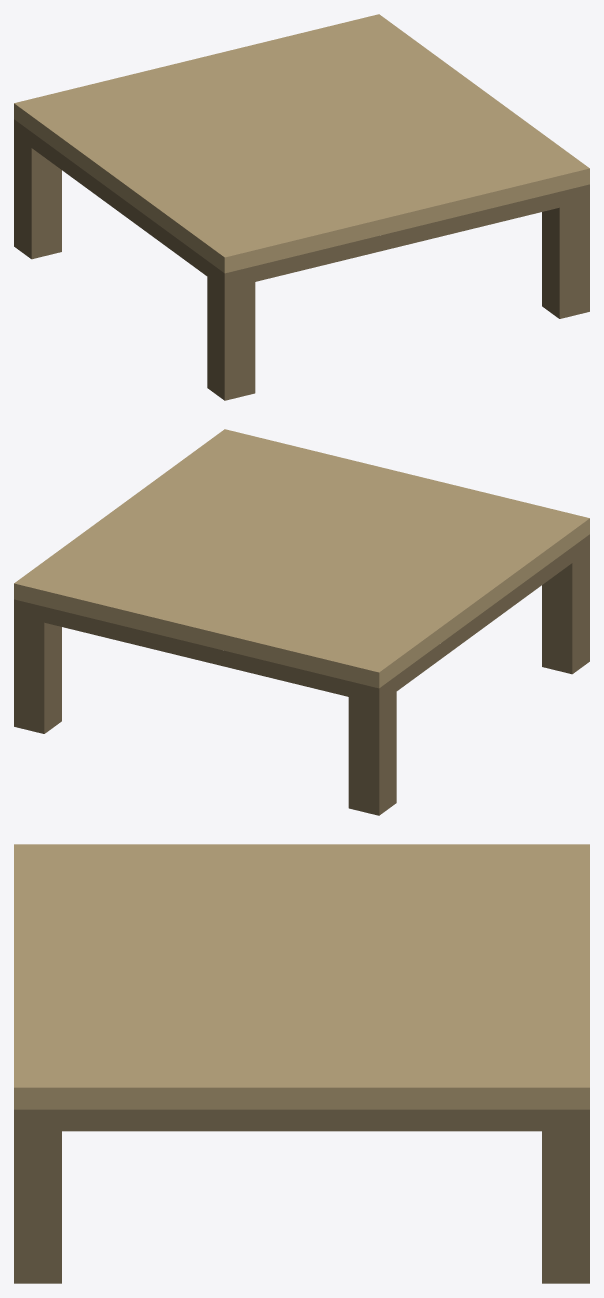
Rendered from mesa_comedor_roble_01.glb.
3 views of the same model, one above another, from view 1: azimuth 30°, elevation 25°; view 2: azimuth 150°, elevation 25°; view 3: azimuth 270°, elevation 25° (orthographic). The views are drawn at different scales.
Visible parts, largest first — view 1: mesa_comedor_roble; view 2: mesa_comedor_roble; view 3: mesa_comedor_roble.
Boxes of the visible parts, box(x1,y1,x2,y2) form: mesa_comedor_roble: box(14, 14, 589, 400); mesa_comedor_roble: box(14, 429, 589, 815); mesa_comedor_roble: box(14, 844, 589, 1283).
Size of the model in its own units: 2 by 0.75 by 2.
